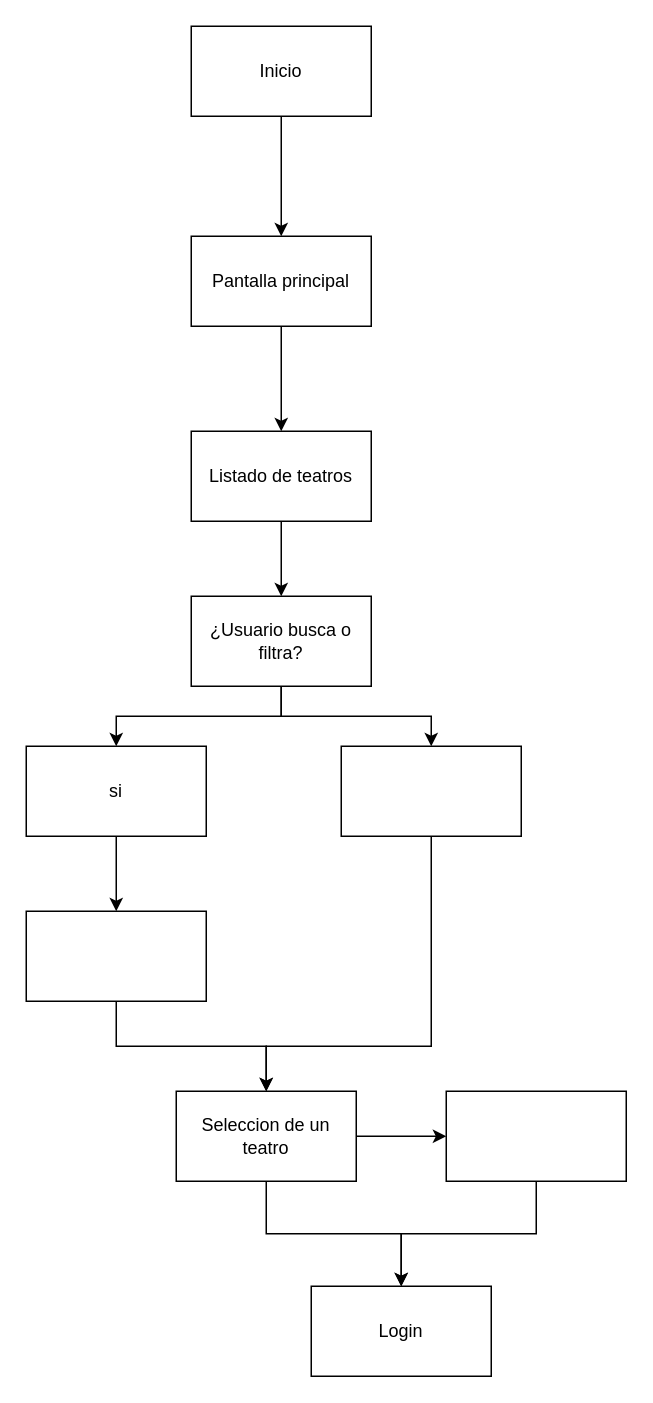
Some shapes in this 653 by 1403 pixel diagram are drawn without their labels. The shapes that lost their labels are listed below. From the top down, each one's centre as x and y in pixels, then its label:
pixel 430 790: no
pixel 115 955: Listado actualizado
pixel 535 1135: ver informacionadicional
